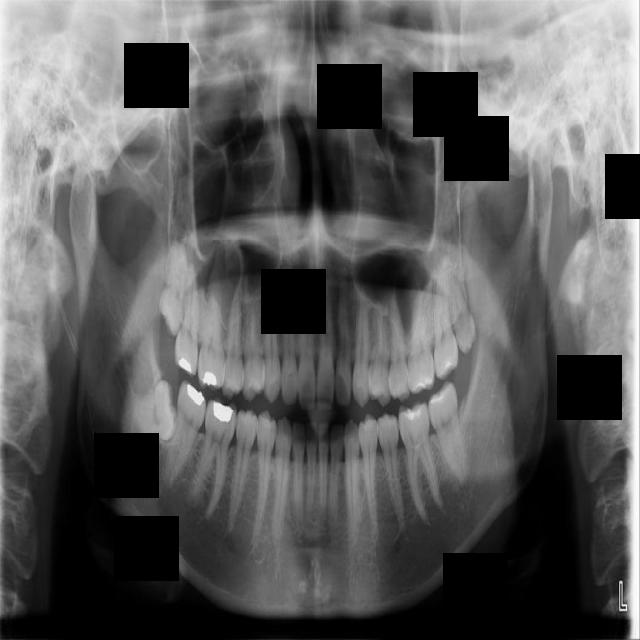3M ESPE Implant: (155, 237, 192, 337)
52: (397, 400, 431, 450), (204, 396, 238, 444), (196, 340, 227, 392), (428, 380, 458, 432), (405, 347, 437, 395), (178, 380, 206, 430), (174, 328, 198, 378), (434, 335, 458, 380)
73: (614, 587, 618, 601)
BioHorizons Implant: (433, 255, 459, 380)
BioLife Implant: (444, 273, 480, 356)
Blue Sky Bio Implant: (424, 380, 470, 489)
Caries: (174, 263, 201, 377)
Implant: (162, 379, 211, 492)
Keystone Dental Implant: (127, 379, 181, 446)
